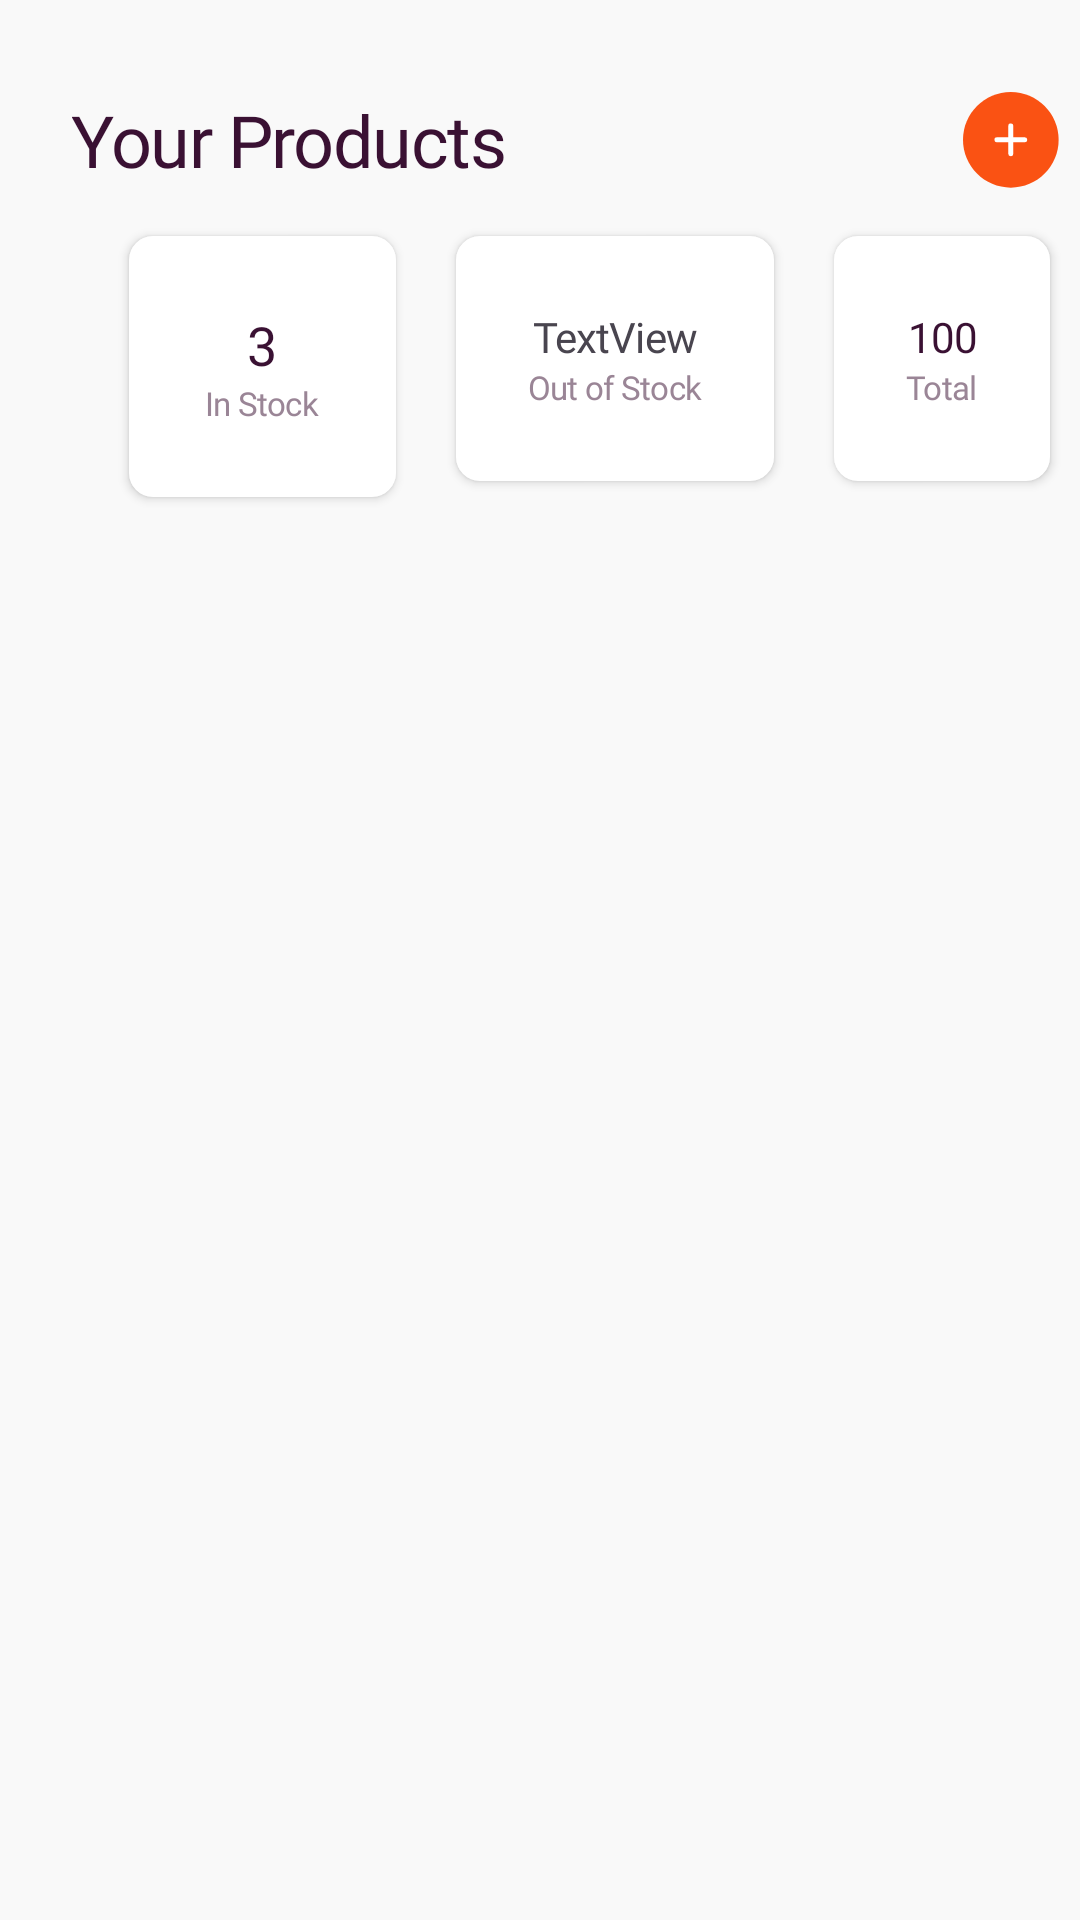

Locate icon controls on the screen. Image size 1080*1920, boxes as rect(x1, y1, x2, y2).
add: rect(963, 92, 1059, 188)
